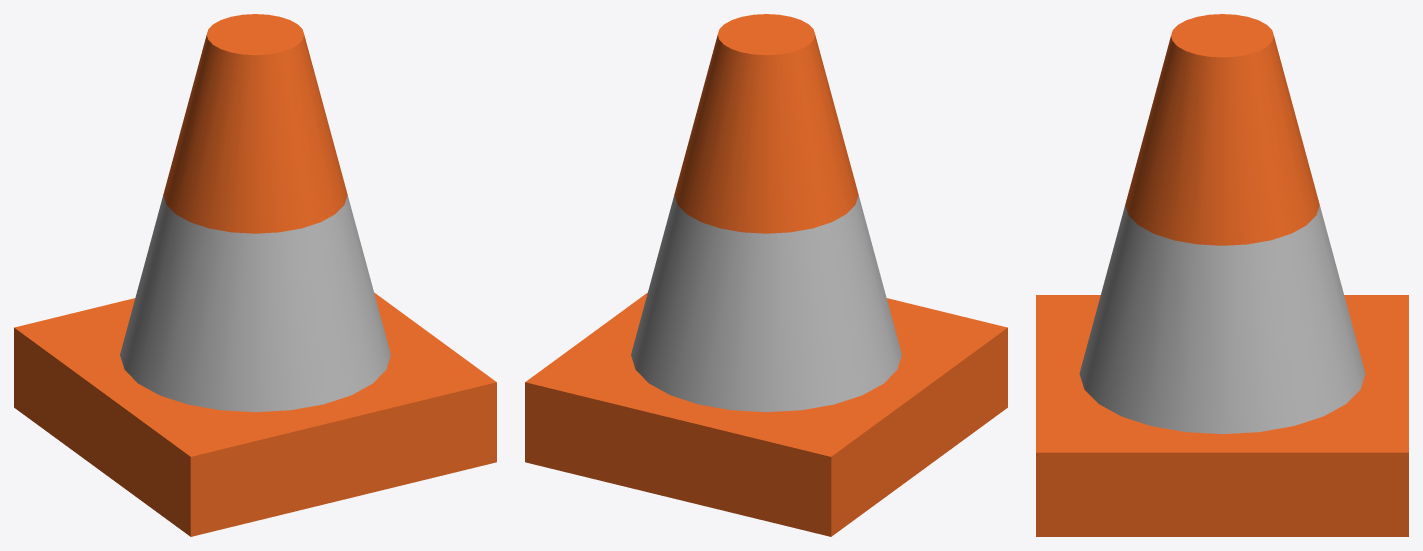
Rendered from SM_Construction_Pylon.fbx.
3 renders of one model, left to right at view 1: azimuth 30°, elevation 25°; view 2: azimuth 150°, elevation 25°; view 3: azimuth 270°, elevation 25°, orthographic. The views are drawn at different scales.
Visible parts, largest first — view 1: SM_Construction_Pylon; view 2: SM_Construction_Pylon; view 3: SM_Construction_Pylon.
Part boxes in pixels (box(x1,y1,x2,y2)): SM_Construction_Pylon: box(14, 14, 496, 536); SM_Construction_Pylon: box(525, 14, 1007, 536); SM_Construction_Pylon: box(1036, 14, 1408, 536).
Size of the model in its own units: 75 by 93.75 by 75.
